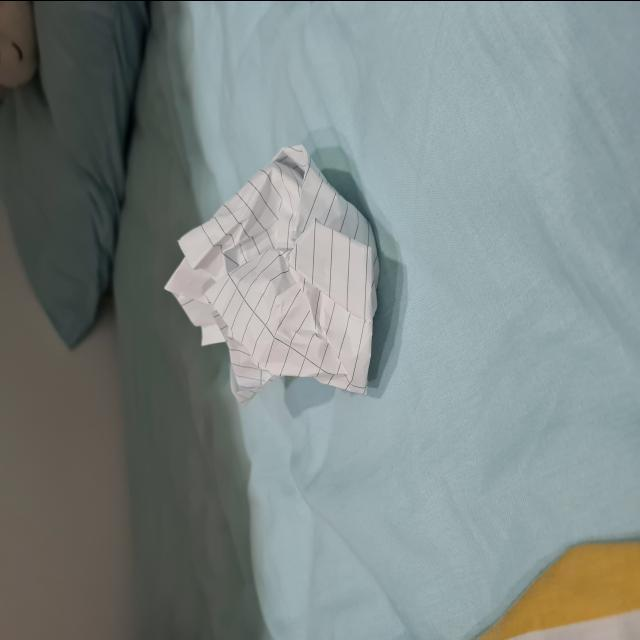Paper: (156, 134, 406, 414)
